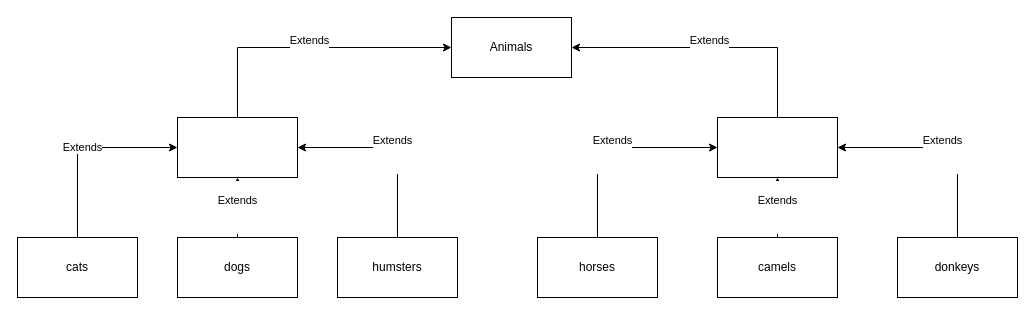
Some shapes in this 1035 by 315 pixel diagram are drawn without their labels. The shapes that lost their labels are listed below. From the top down, each one's centre as x and y in pixels, then its label:
the point at 237,147: HomeAnimals
the point at 777,147: PackAnimals
